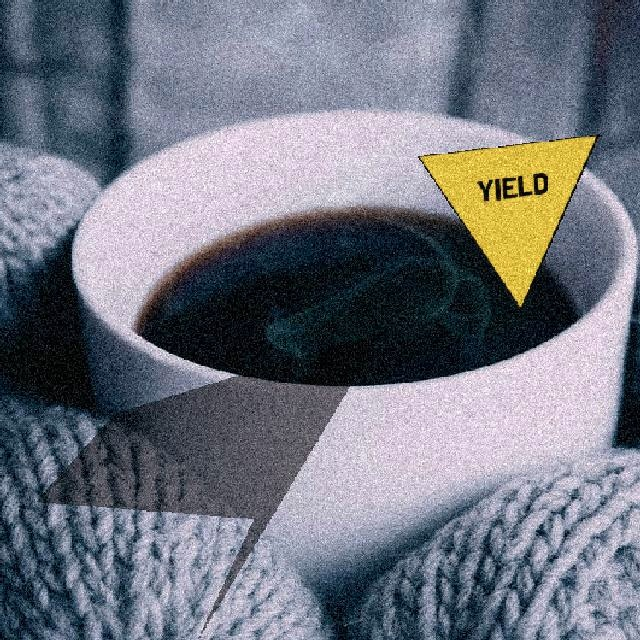YIELD: (416, 133, 598, 309)
